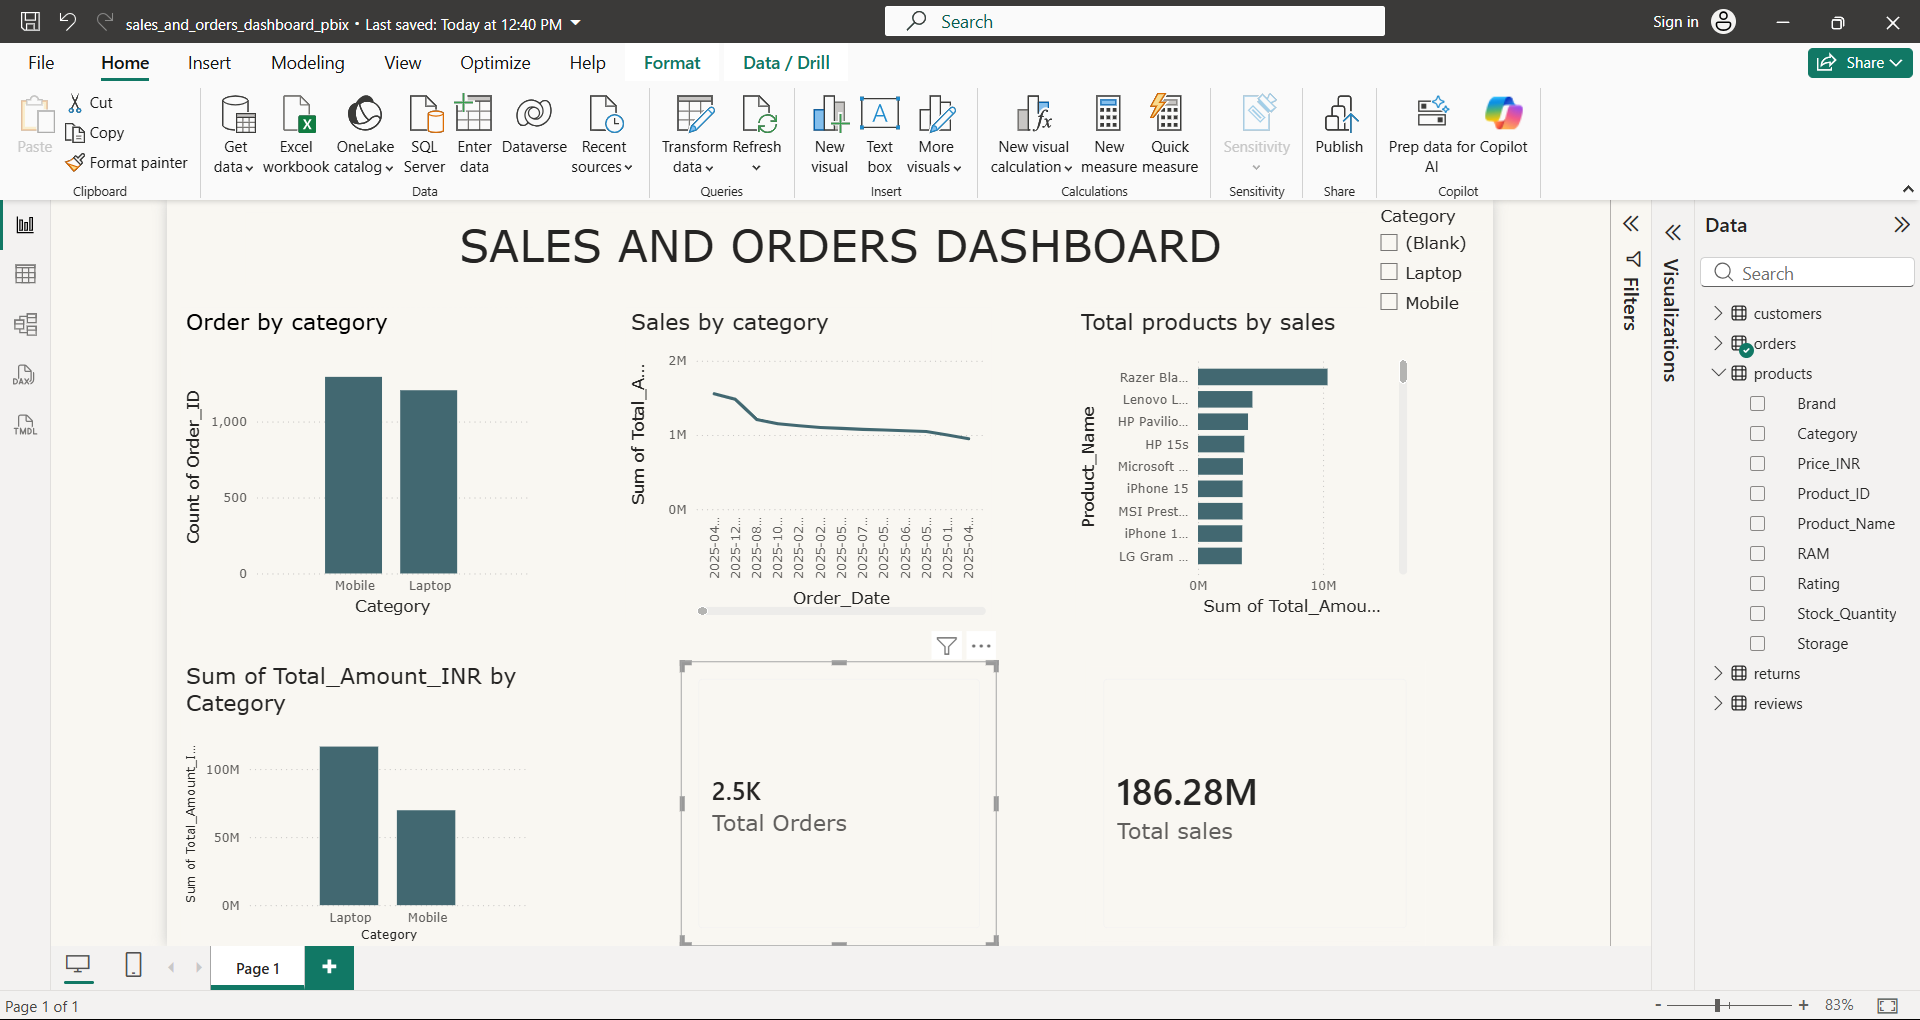

Layout of this report page (visuals, bound fields, positions):
{"tool":"powerbi","page":{"name":"Page 1","canvas":[1280,720],"ordinal":0},"visuals":[{"type":"clusteredColumnChart","title":"Order  by category ","fields":{"Category":["products.Category"],"Y":["CountNonNull(orders.Order_ID)"]},"box":[13.7,104.3,340.3,301.9],"z":0},{"type":"clusteredColumnChart","fields":{"Category":["products.Category"],"Y":["Sum(orders.Total_Amount_INR)"]},"box":[13.7,444.6,340.3,275.8],"z":1000},{"type":"lineChart","title":"Sales by category","fields":{"Category":["orders.Order_Date"],"Y":["Sum(orders.Total_Amount_INR)"]},"box":[443.2,104.3,352.7,301.9],"z":2000},{"type":"barChart","title":"Total products by sales","fields":{"Category":["products.Product_Name"],"Y":["Sum(orders.Total_Amount_INR)"]},"box":[876.8,104.3,325.2,301.9],"z":3000},{"type":"cardVisual","fields":{"Data":["CountNonNull(orders.Order_ID)"]},"box":[495.4,444.6,306,275.8],"z":4000},{"type":"cardVisual","fields":{"Data":["Sum(orders.Total_Amount_INR)"]},"box":[886.5,444.6,328,275.8],"z":5000},{"type":"textbox","box":[75.5,12.3,1148.5,70],"z":6000},{"type":"slicer","fields":{"Values":["products.Category"]},"box":[1158.2,0,122.1,126.2],"z":6001}]}

Visuals, with their boxes on the page's 1280x720 design canvas (x1, y1, x2, y2). These are canvas units, not pixel positions in the 1920x1020 screenshot, which may show the page scaled, cropped or inside an application window:
"Order  by category " clusteredColumnChart: left=14, top=104, right=354, bottom=406
clusteredColumnChart - products.Category x Sum(orders.Total_Amount_INR): left=14, top=445, right=354, bottom=720
"Sales by category" lineChart: left=443, top=104, right=796, bottom=406
"Total products by sales" barChart: left=877, top=104, right=1202, bottom=406
cardVisual - CountNonNull(orders.Order_ID): left=495, top=445, right=801, bottom=720
cardVisual - Sum(orders.Total_Amount_INR): left=886, top=445, right=1214, bottom=720
textbox: left=76, top=12, right=1224, bottom=82
slicer - products.Category: left=1158, top=0, right=1280, bottom=126
